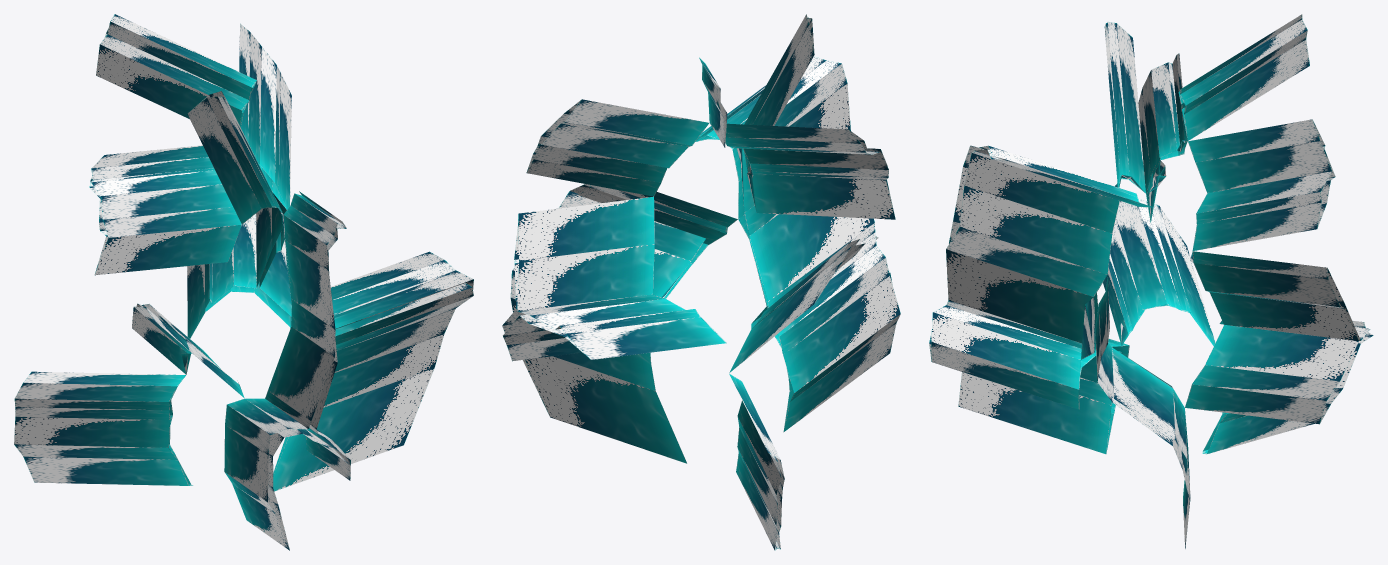
Rendered from StoneLight_Test.fbx.
3 views of the same model, side by side, from view 1: azimuth 30°, elevation 25°; view 2: azimuth 150°, elevation 25°; view 3: azimuth 270°, elevation 25° (orthographic). The views are drawn at different scales.
Visible parts, largest first — view 1: 3909_stonelight_01; view 2: 3909_stonelight_01; view 3: 3909_stonelight_01.
Boxes of the visible parts, left/top/right/bottom form: 3909_stonelight_01: left=14, top=14, right=473, bottom=550; 3909_stonelight_01: left=502, top=14, right=900, bottom=550; 3909_stonelight_01: left=929, top=14, right=1373, bottom=548.
Size of the model in its own units: 6.98 by 8.08 by 7.36.
